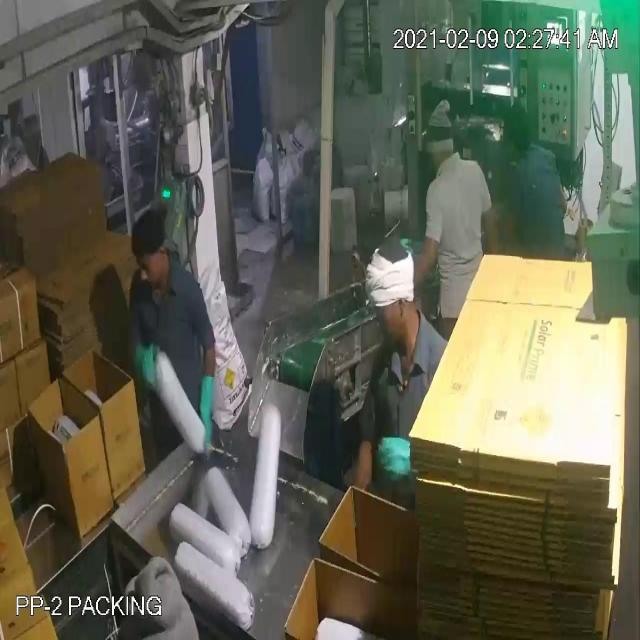Gloves: (34, 66, 398, 466)
